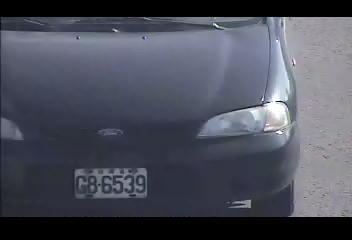plate: (73, 166, 151, 199)
